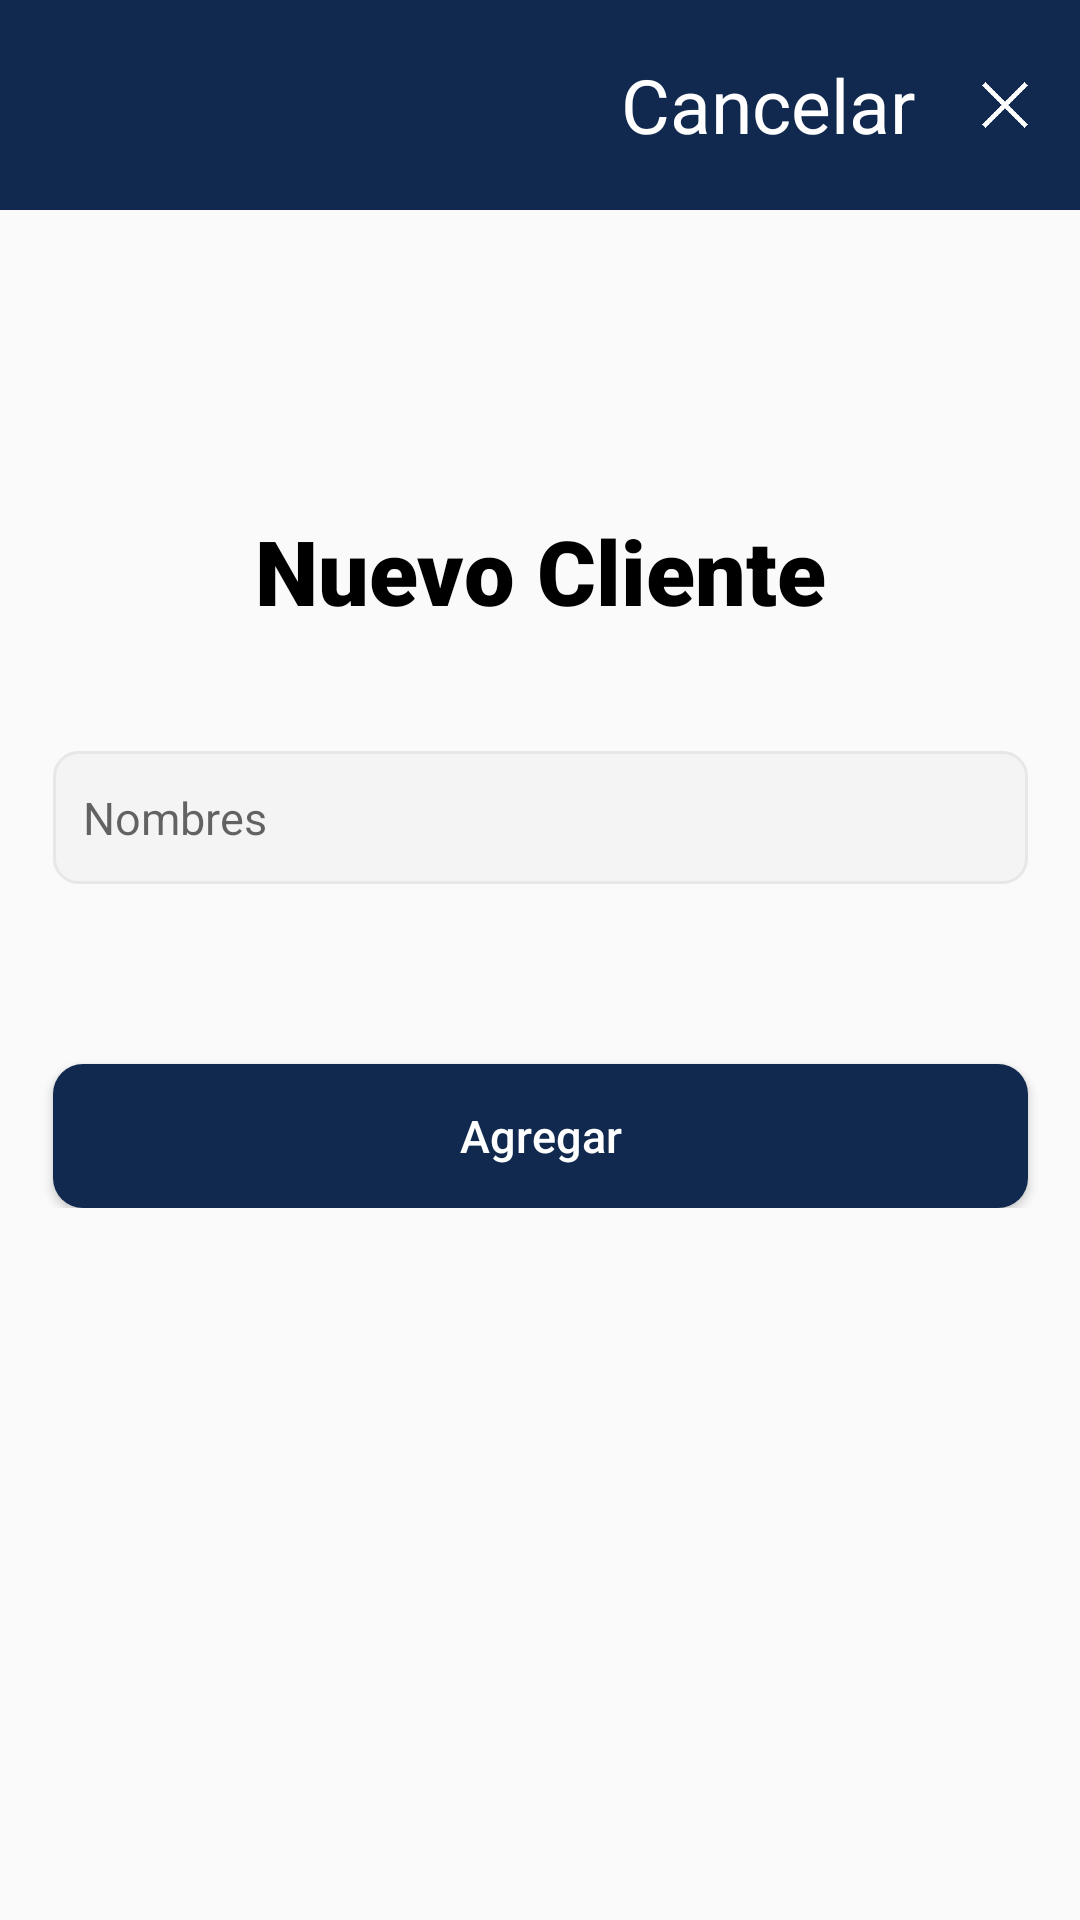

Icons on this 1080px×1920px Android screen, each with the point to tap as [x,y]:
cancelx: [1005,105]
